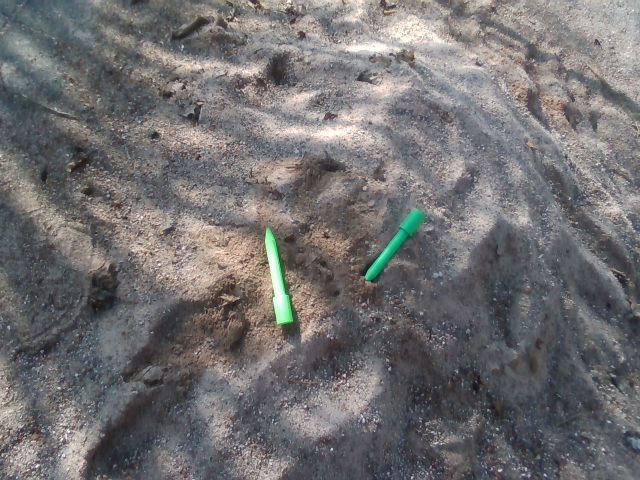Probe: (359, 202, 429, 289), (262, 220, 298, 330)
